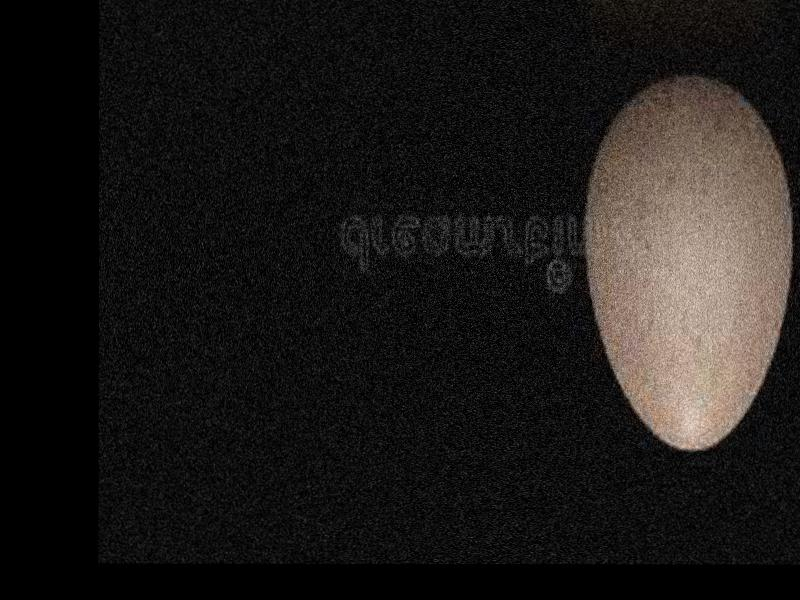Eggs: (587, 74, 793, 453)
